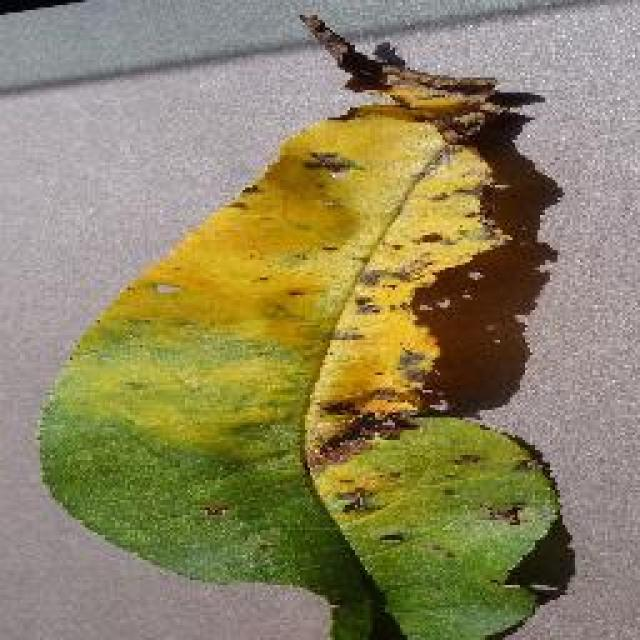Peach_Bacterial_Spot: (245, 12, 565, 565)
